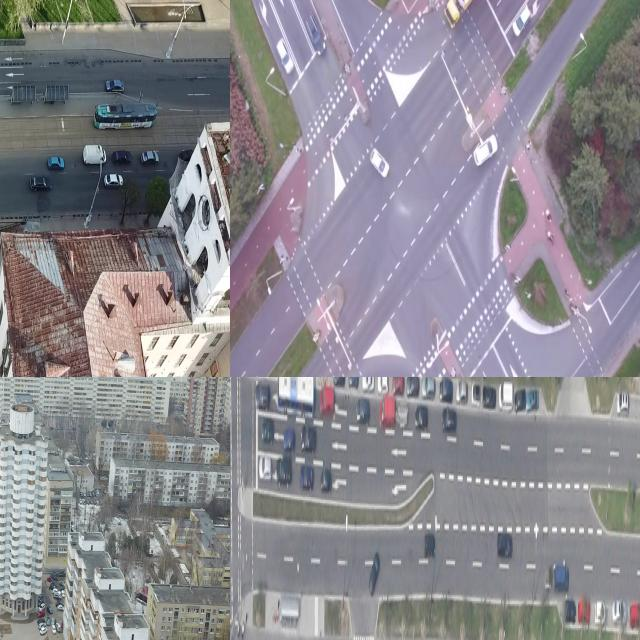UAI: (443, 0, 509, 32), (305, 13, 327, 57), (472, 133, 498, 167), (276, 37, 294, 75), (370, 149, 390, 180), (512, 6, 532, 36), (368, 551, 380, 597), (380, 396, 395, 428), (302, 424, 317, 454), (320, 384, 334, 416), (256, 380, 270, 410), (277, 456, 291, 486), (499, 380, 513, 410), (356, 397, 370, 425), (442, 406, 456, 434), (497, 533, 512, 559), (613, 598, 627, 625), (554, 565, 568, 591), (262, 415, 274, 445), (30, 175, 52, 191), (415, 404, 428, 430), (439, 377, 452, 403), (300, 466, 314, 490), (141, 149, 159, 167), (104, 172, 124, 188), (259, 454, 271, 480), (564, 597, 576, 623), (320, 466, 331, 493), (578, 599, 590, 623), (617, 390, 629, 414), (629, 602, 640, 628), (483, 386, 496, 408), (113, 150, 133, 164), (284, 426, 294, 453), (595, 598, 605, 625), (106, 79, 125, 93), (527, 388, 539, 410), (456, 379, 467, 403), (424, 534, 435, 558), (47, 157, 65, 171), (422, 377, 434, 398), (397, 404, 407, 428), (515, 388, 525, 412), (406, 377, 418, 396), (392, 377, 403, 395), (472, 382, 480, 406), (377, 377, 387, 394), (544, 568, 552, 589), (362, 377, 374, 391), (348, 377, 358, 388), (334, 377, 345, 386), (40, 627, 48, 636), (37, 610, 45, 619), (51, 624, 57, 635), (38, 622, 46, 630), (37, 618, 45, 626), (56, 623, 62, 633), (47, 605, 53, 614), (52, 616, 56, 627), (47, 616, 51, 626)
car: (93, 104, 157, 129), (277, 377, 313, 418)
harvester: (83, 145, 107, 165)
